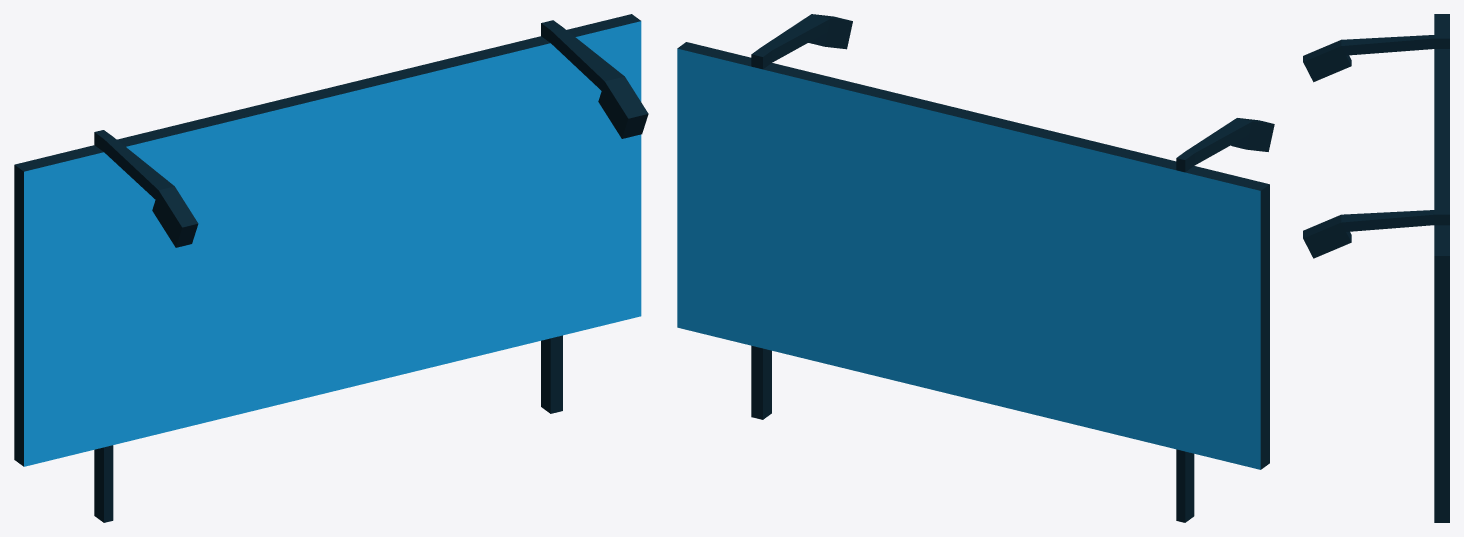
Rendered from Billboard_01.FBX.
3 renders of one model, left to right at view 1: azimuth 30°, elevation 25°; view 2: azimuth 150°, elevation 25°; view 3: azimuth 270°, elevation 25°, orthographic. The views are drawn at different scales.
Visible parts, largest first — view 1: Box1307; view 2: Box1307; view 3: Box1307.
Part boxes in pixels (bbox=[...]): Box1307: bbox=[14, 14, 648, 522]; Box1307: bbox=[677, 14, 1274, 522]; Box1307: bbox=[1303, 14, 1449, 522].
Size of the model in its own units: 50.95 by 30.27 by 13.06.
